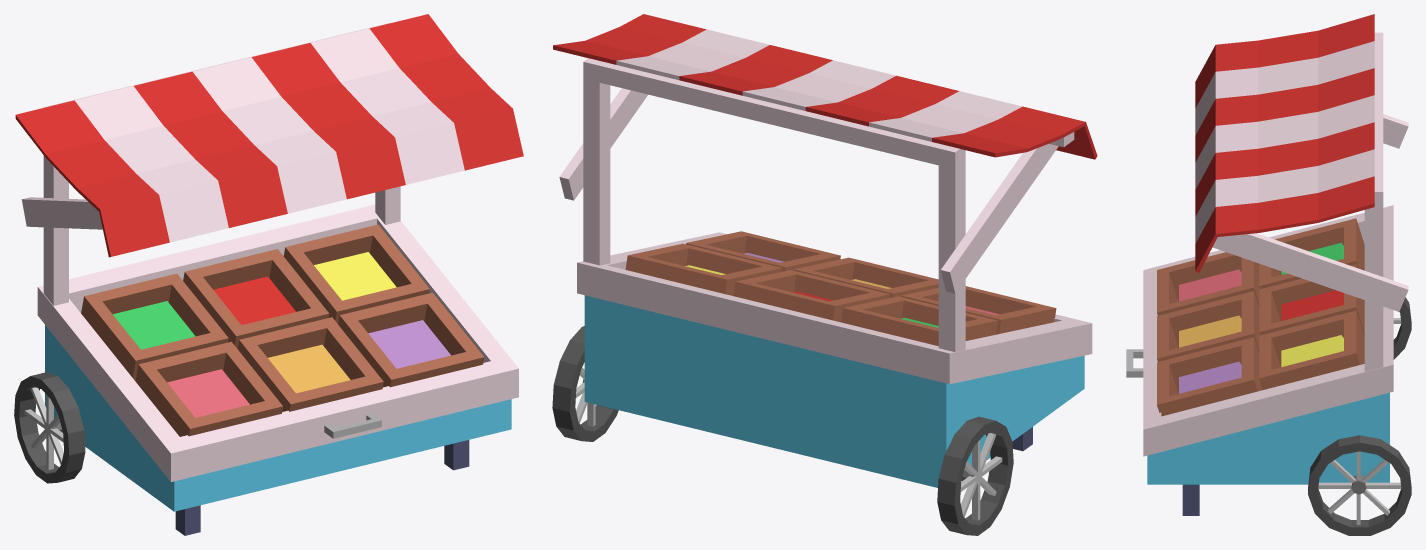
Rendered from icecar_02.FBX.
3 renders of one model, left to right at view 1: azimuth 30°, elevation 25°; view 2: azimuth 150°, elevation 25°; view 3: azimuth 270°, elevation 25°, orthographic. The views are drawn at different scales.
Visible parts, largest first — view 1: Fruit_Cart_Shop; view 2: Fruit_Cart_Shop; view 3: Fruit_Cart_Shop.
Part boxes in pixels (x1,y1,x2,y2): Fruit_Cart_Shop: (14,14,523,535); Fruit_Cart_Shop: (552,14,1097,535); Fruit_Cart_Shop: (1126,14,1411,535).
Bounding box in the file's own units: 505 × 424 × 321.
